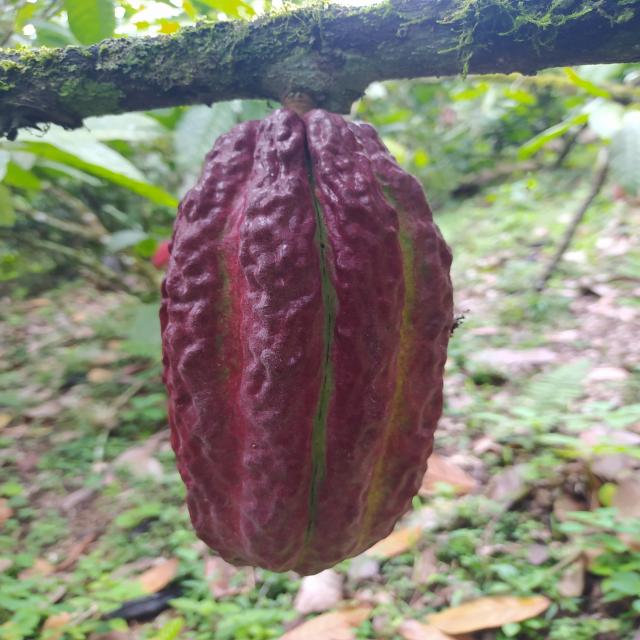Sana: (157, 110, 457, 577)
